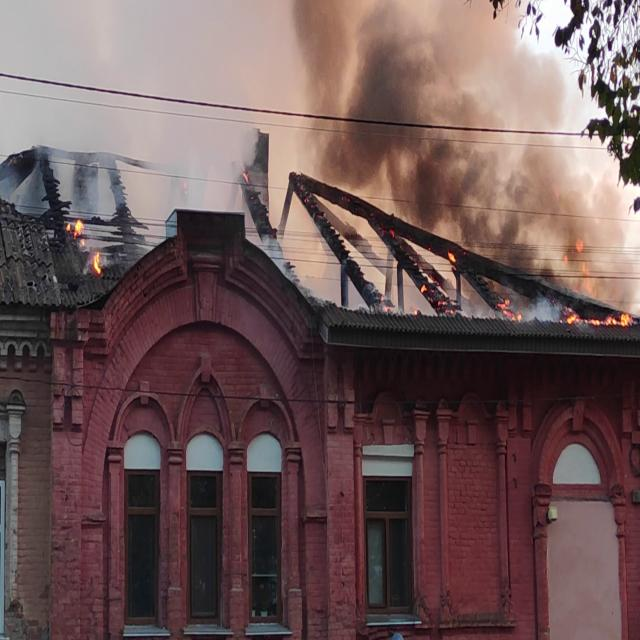fire: (555, 242, 633, 332)
smoke: (342, 36, 476, 222)
